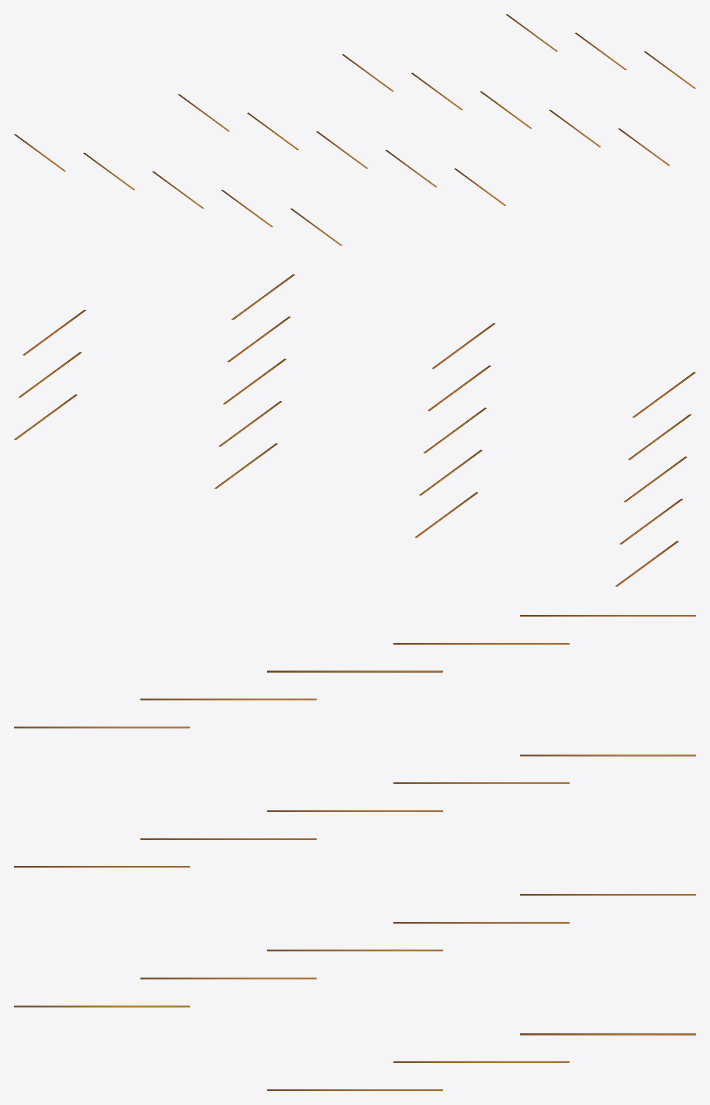
Rendered from 078_L101_L1_Top_Signal_Copper.obj.
The picture shows the model from 3 angles, top to bottom: view 1: azimuth 30°, elevation 25°; view 2: azimuth 150°, elevation 25°; view 3: azimuth 270°, elevation 25°; orthographic projection. The views are drawn at different scales.
Bounding box in the file's own units: 0.2046 × 7e-05 × 0.124.
1 material, 1 textured.
